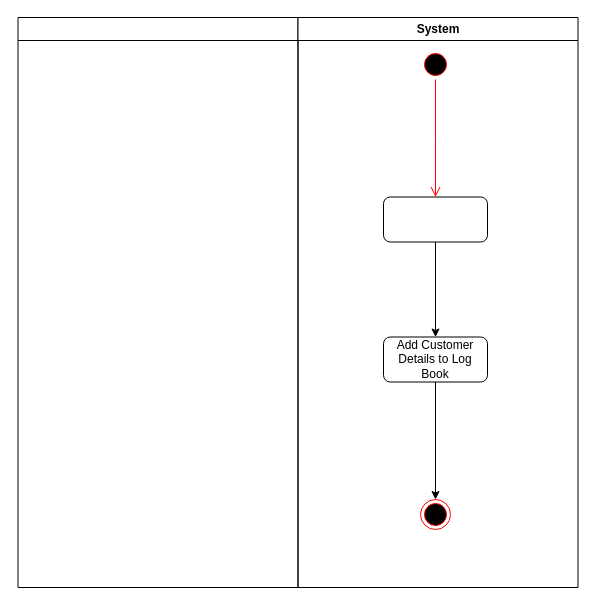
The diagram is 595 pixels wide and 605 high, and some of its shapes have lost their labels. The centre of each missing label's shape, as x and y in pixels:
"Actors" belongs at point 157,302.
"Receive Hire Details" belongs at point 435,219.
